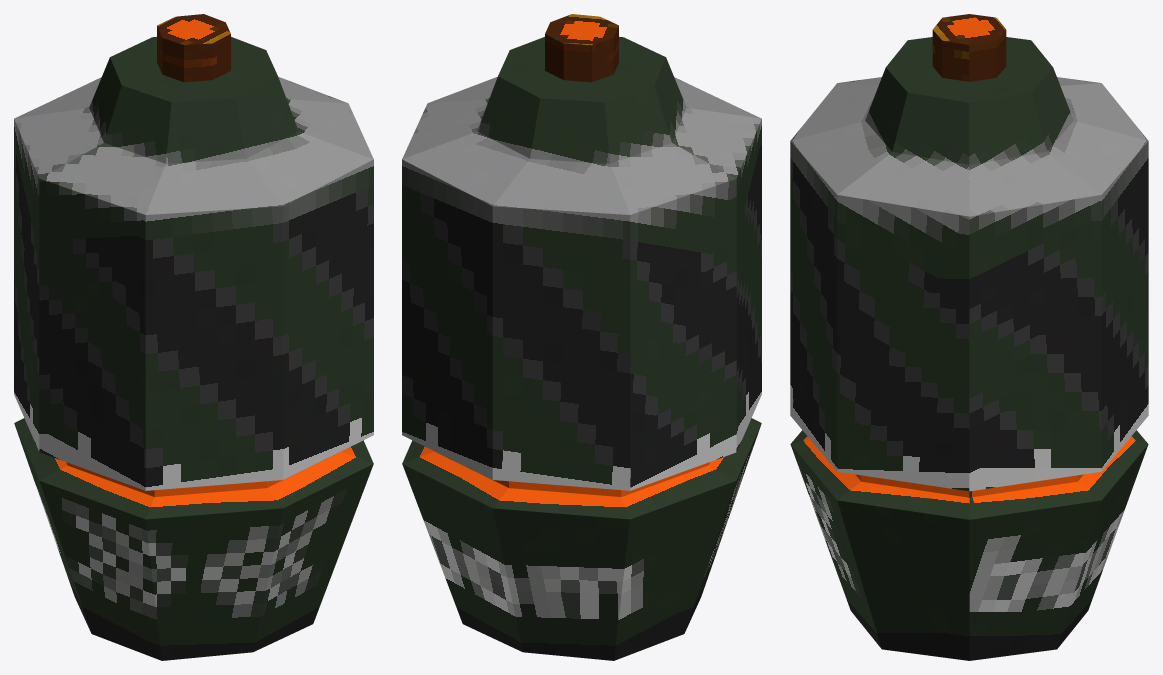
The model's file is grenade_mesh.gltf.
3 renders of one model, left to right at view 1: azimuth 30°, elevation 25°; view 2: azimuth 150°, elevation 25°; view 3: azimuth 270°, elevation 25°, orthographic.
Visible parts, largest first — view 1: grenade_mesh; view 2: grenade_mesh; view 3: grenade_mesh.
Boxes of the visible parts, x1,y1,x2,y2 form: grenade_mesh: (14, 14, 373, 660); grenade_mesh: (402, 14, 761, 660); grenade_mesh: (790, 14, 1148, 660).
Size of the model in its own units: 0.8049 by 1.45 by 0.8049.
Materials: 1 (1 with a texture image).
